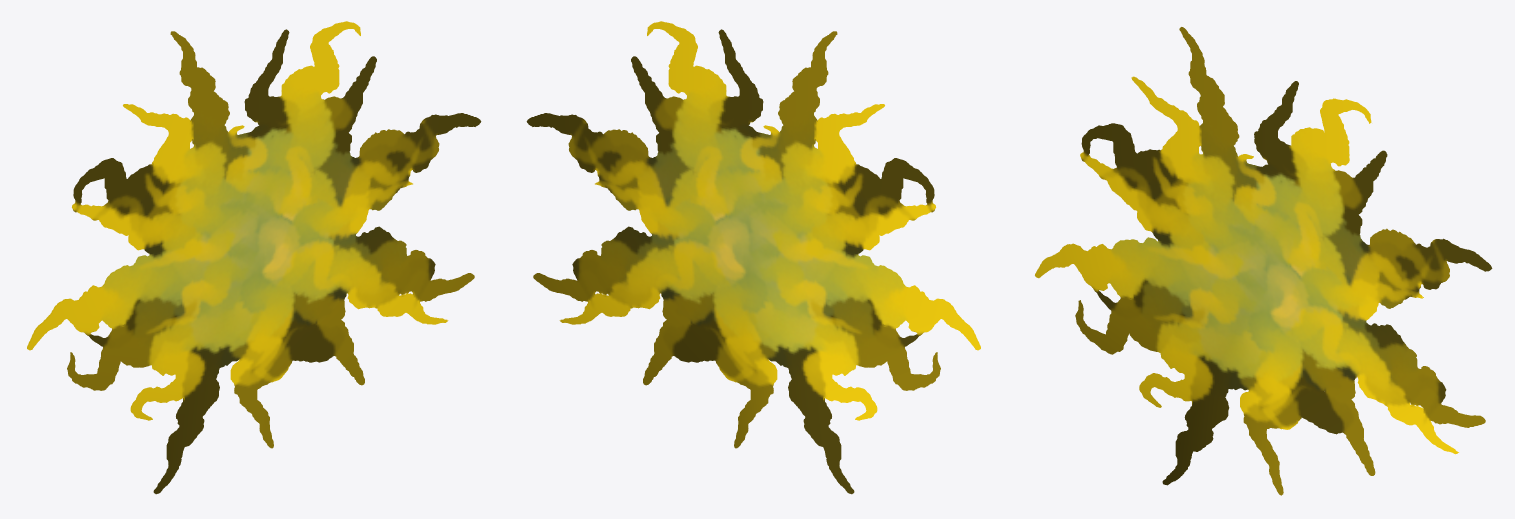
File: painted-weed-051.glb
3 renders of one model, left to right at view 1: azimuth 30°, elevation 25°; view 2: azimuth 150°, elevation 25°; view 3: azimuth 330°, elevation 25°, orthographic.
Size of the model in its own units: 10.16 by 9.79 by 0.04.
1 material, 1 textured.
